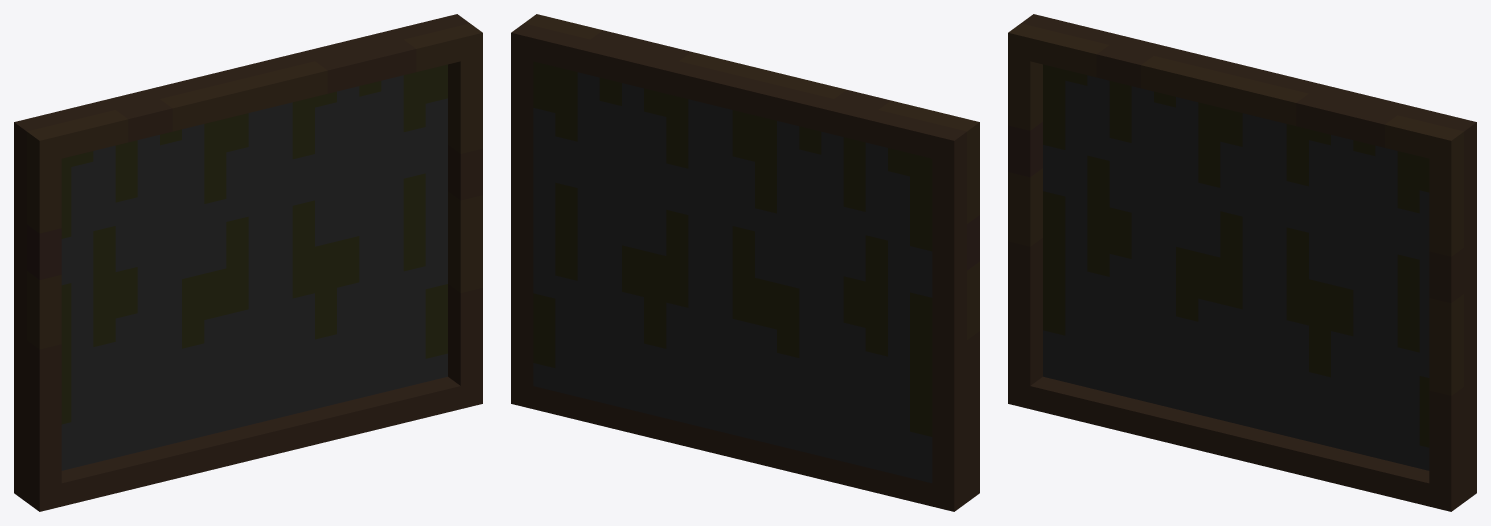
The model's file is DrawingBoard.obj.
3 renders of one model, left to right at view 1: azimuth 30°, elevation 25°; view 2: azimuth 150°, elevation 25°; view 3: azimuth 330°, elevation 25°, orthographic.
Bounding box in the file's own units: 2 × 1.6 × 0.2.
1 material, 1 textured.
